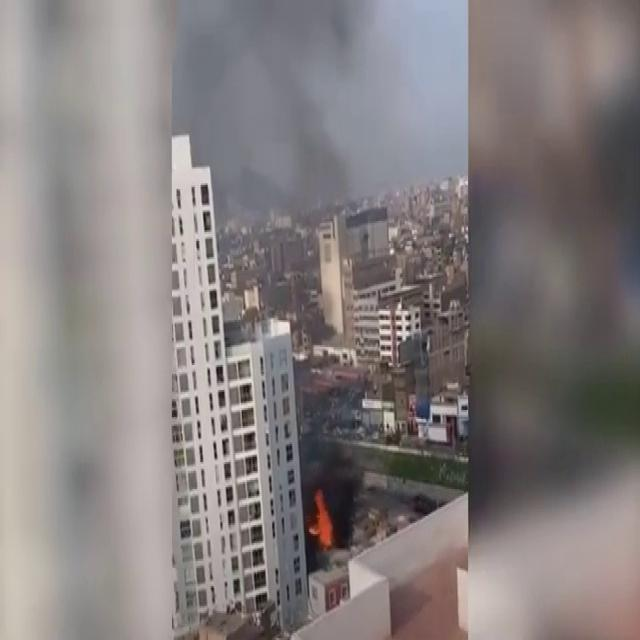Fire: (309, 469, 336, 559)
Smoke: (166, 0, 353, 191), (260, 168, 358, 486)
